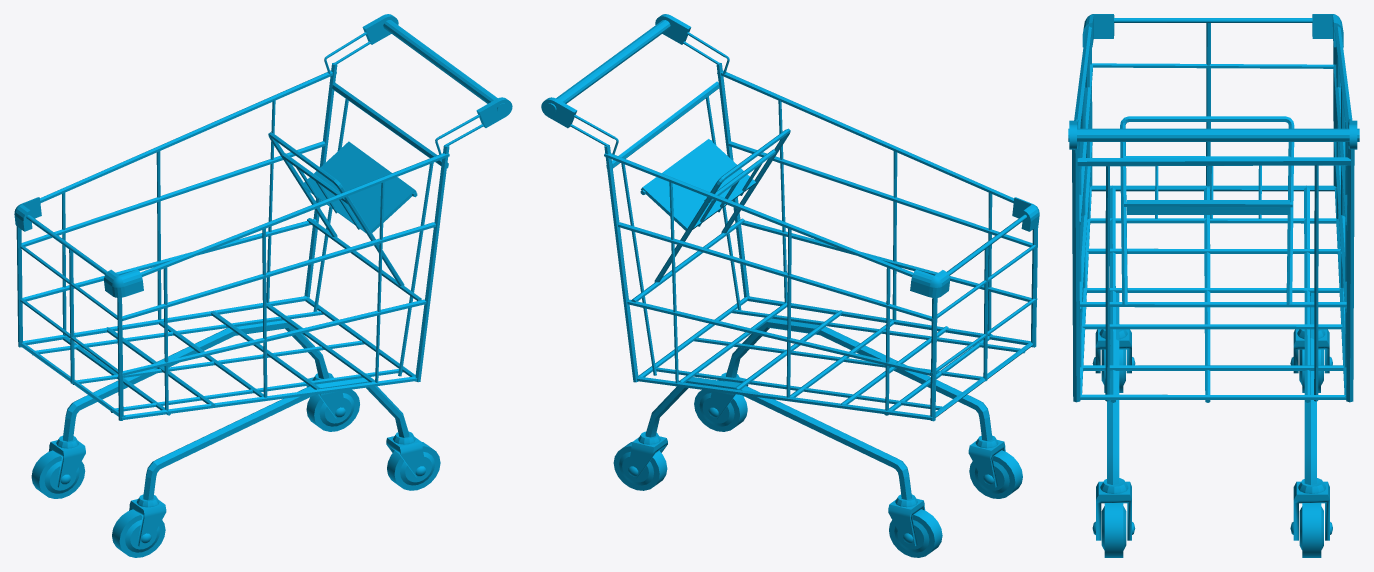
The model's file is Shopping_Cart_01.fbx.
The picture shows the model from 3 angles, left to right: view 1: azimuth 30°, elevation 25°; view 2: azimuth 150°, elevation 25°; view 3: azimuth 270°, elevation 25°; orthographic projection. The views are drawn at different scales.
Visible parts, largest first — view 1: Shopping_Cart_01; view 2: Shopping_Cart_01; view 3: Shopping_Cart_01.
Boxes of the visible parts, x1=… form: Shopping_Cart_01: x1=14, y1=14, x2=512, y2=557; Shopping_Cart_01: x1=541, y1=14, x2=1039, y2=557; Shopping_Cart_01: x1=1068, y1=14, x2=1359, y2=557.
Size of the model in its own units: 102 by 96.06 by 53.72.
